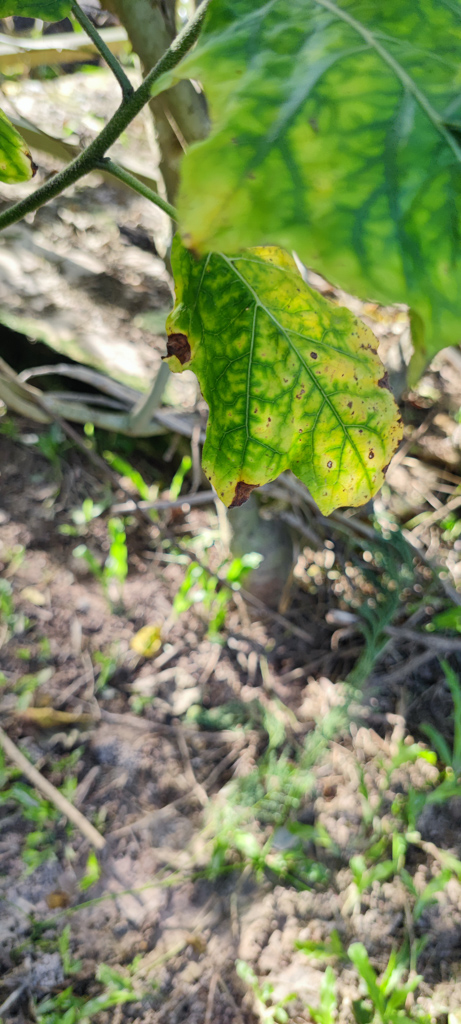Pepper yellow leaf: (176, 248, 411, 517)
